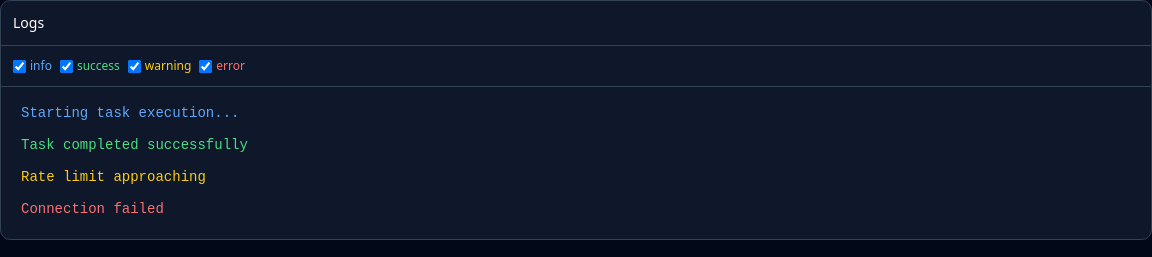
Test: LogViewer › should allow toggling level filters
Click the checkbox labelled "error". click: (206, 66)
box: [199, 60, 212, 72]
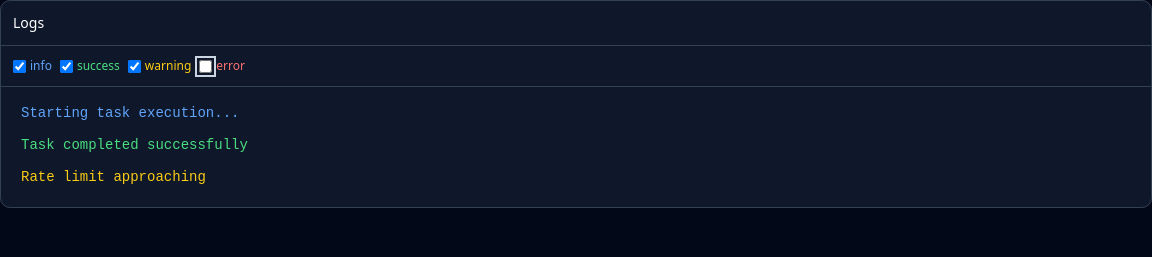
Expected: the text "Connection failed" is gone
